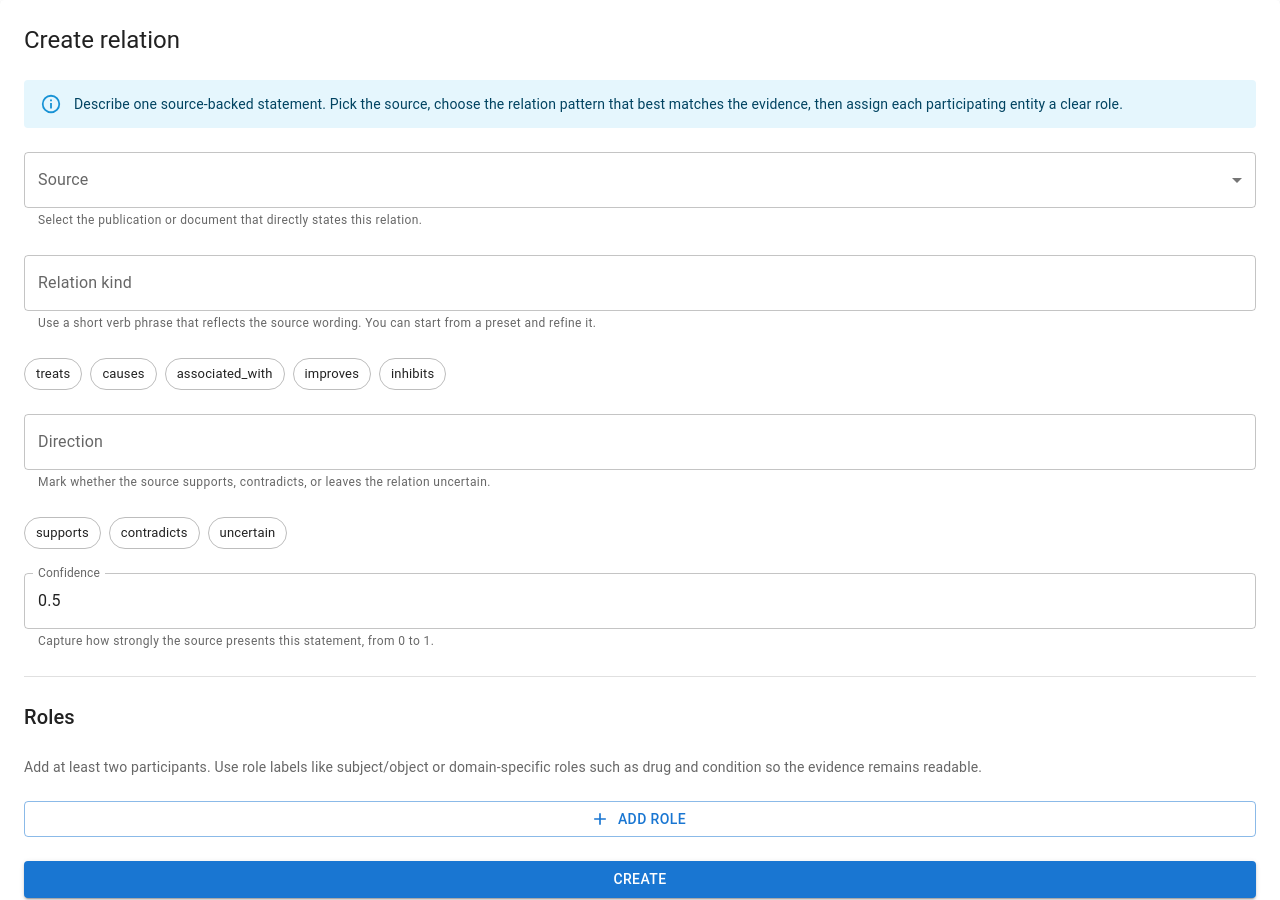
it: CreateRelationView › Source selection › allows selecting a source
Press the mouse on the dropdown named "source" at (640, 180), box [24, 152, 1256, 208]
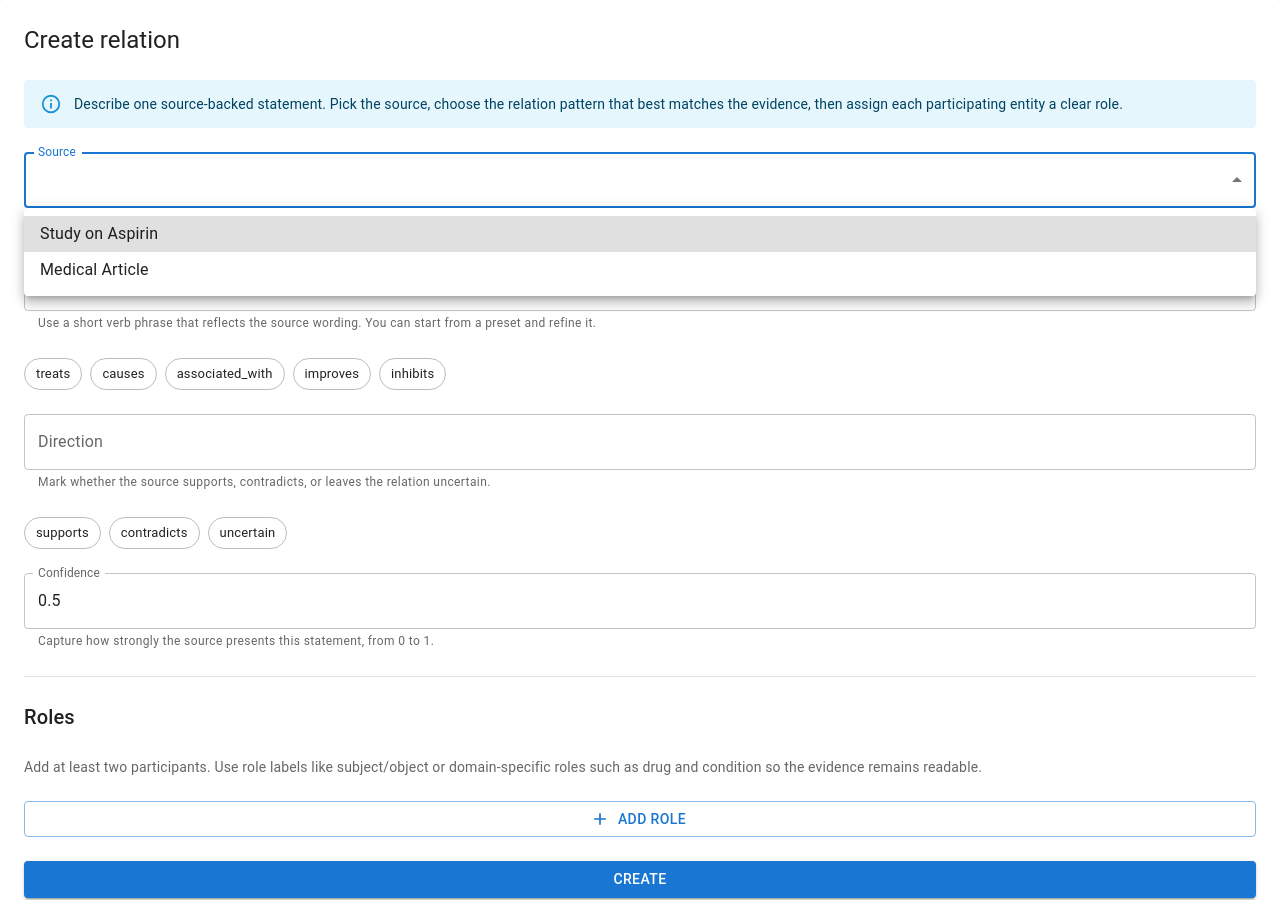
Click the option "Study on Aspirin" at (99, 234), box [24, 216, 1256, 252]
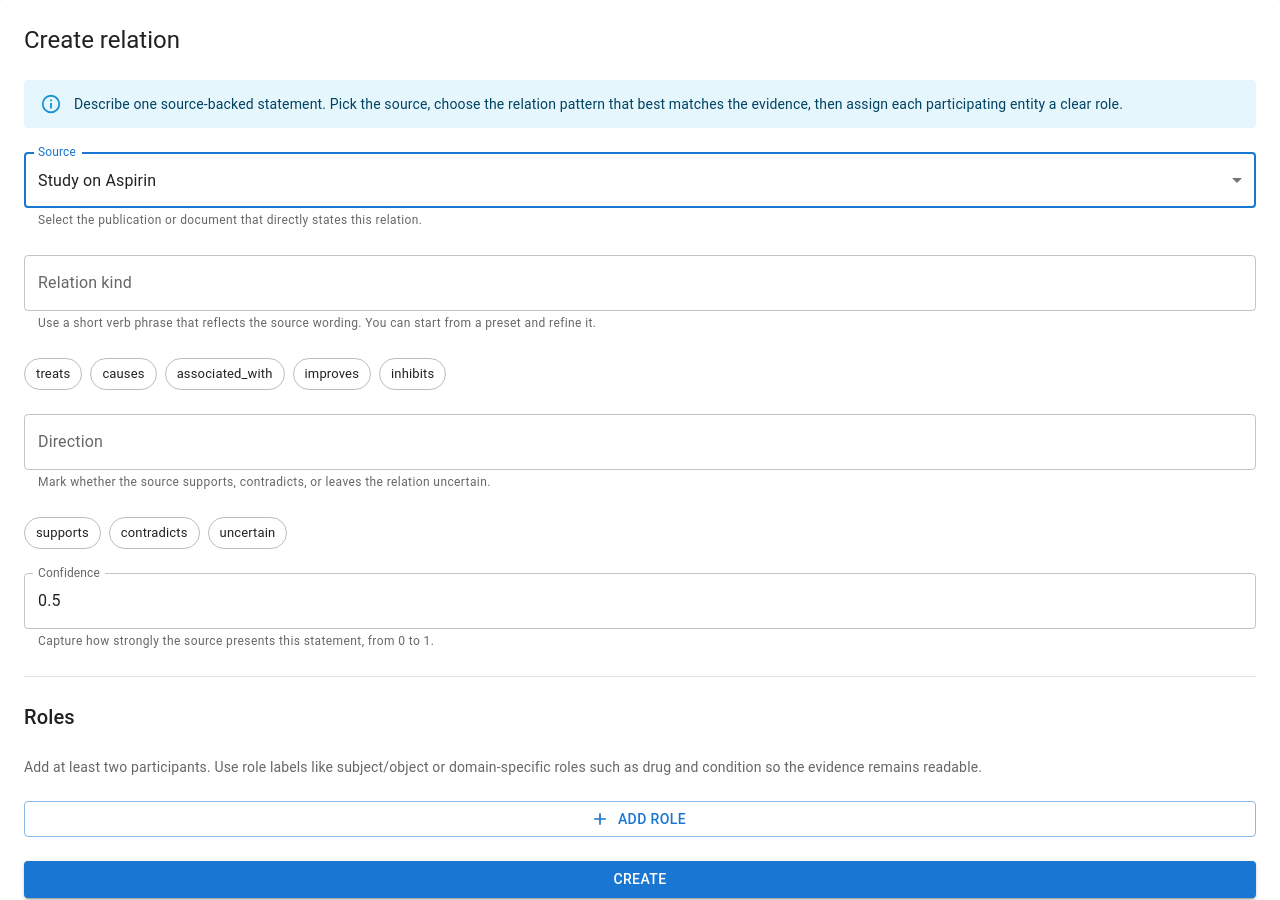
Expected: the dropdown "Study on Aspirin" is shown, [38, 170, 156, 190]
